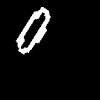chain: (16, 7, 49, 53)
